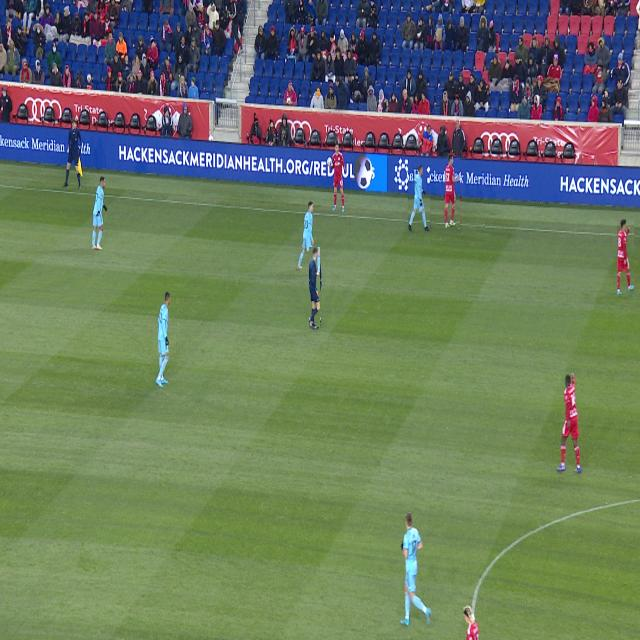player: (400, 512, 431, 626), (556, 373, 581, 473), (409, 163, 430, 231), (156, 292, 170, 387), (617, 220, 634, 295), (297, 201, 314, 275), (92, 176, 107, 250), (445, 154, 460, 228), (464, 606, 479, 640)
referee: (310, 248, 320, 329)
